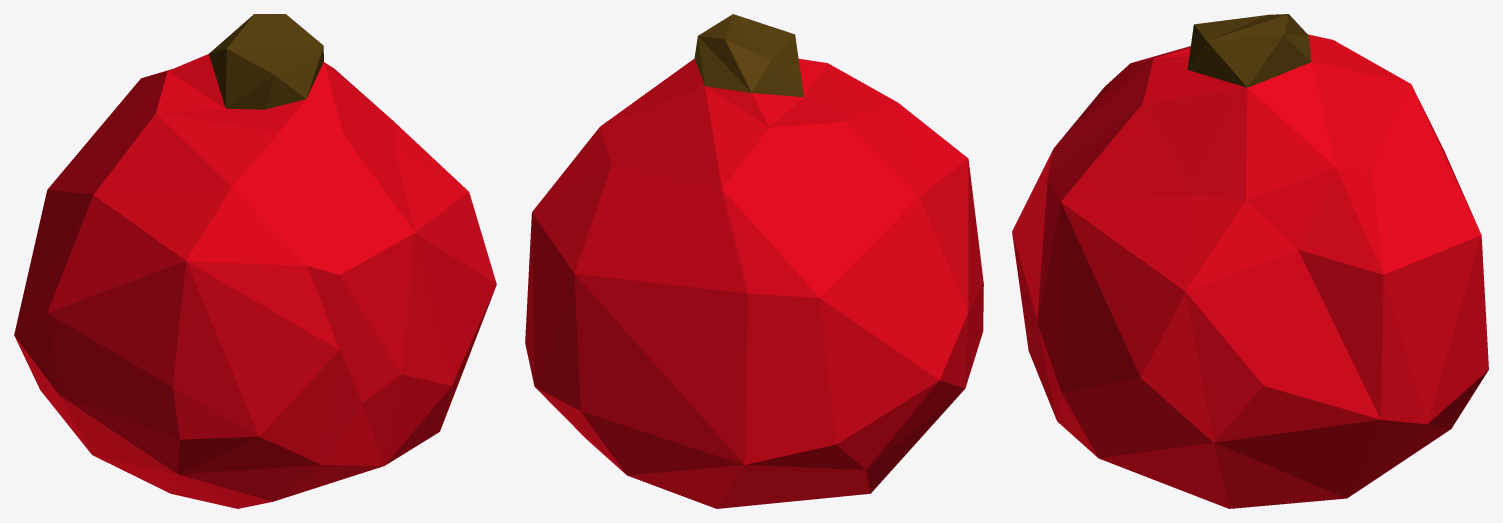
Rendered from Seedpod3.glb.
The picture shows the model from 3 angles, left to right: view 1: azimuth 30°, elevation 25°; view 2: azimuth 150°, elevation 25°; view 3: azimuth 270°, elevation 25°; orthographic projection. The views are drawn at different scales.
Visible parts, largest first — view 1: Seedpod3; view 2: Seedpod3; view 3: Seedpod3.
Boxes of the visible parts, left/top/right/bottom form: Seedpod3: left=14, top=14, right=496, bottom=508; Seedpod3: left=525, top=14, right=983, bottom=508; Seedpod3: left=1012, top=14, right=1488, bottom=508.
Bounding box in the file's own units: 1.22 × 1.27 × 1.17.
2 materials, 1 textured.
